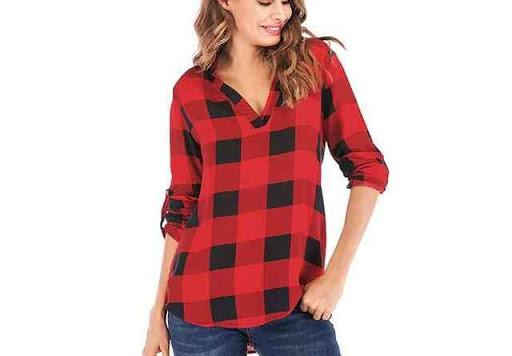squared: (154, 32, 397, 333)
